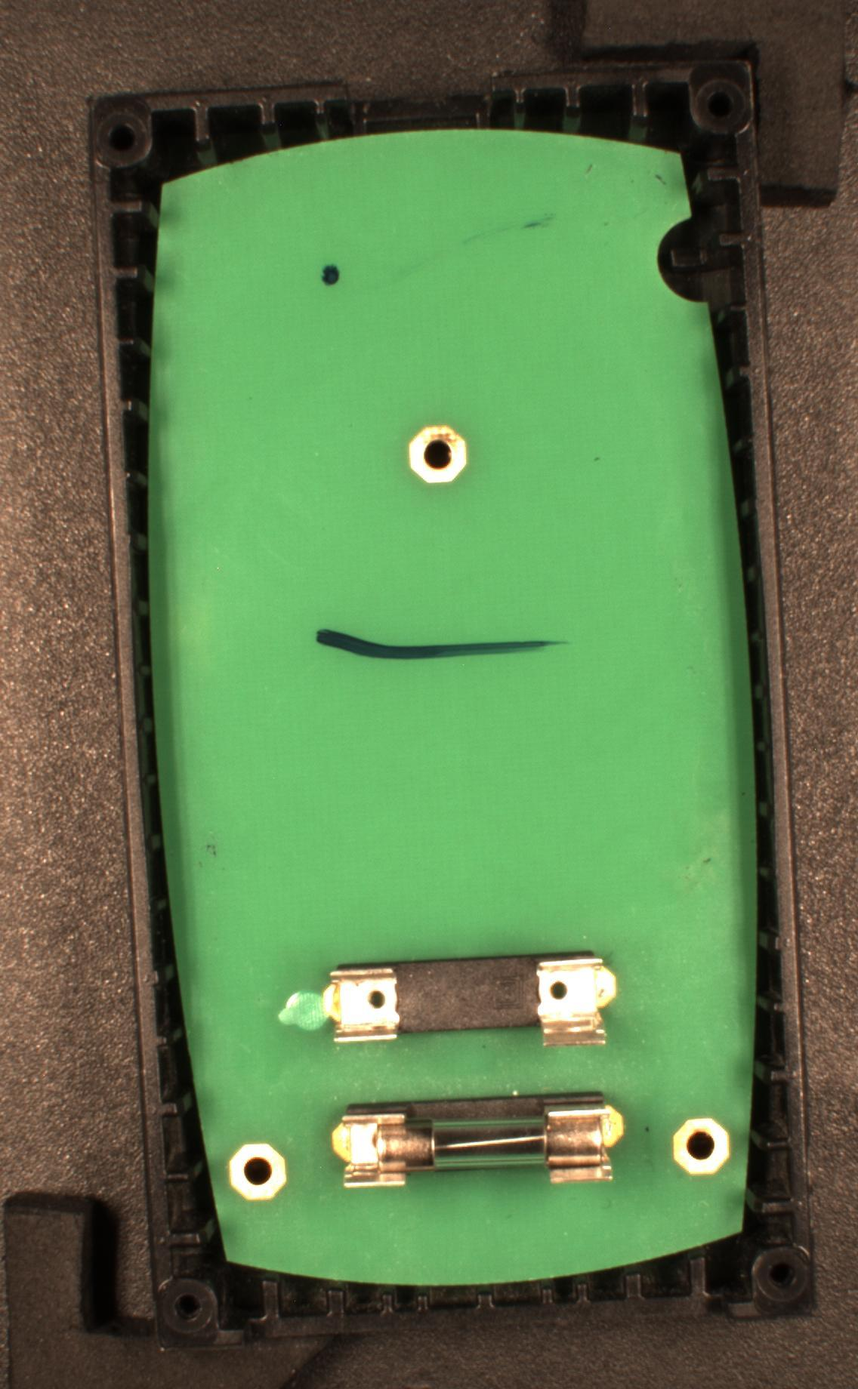Linijsko Ostecene: (316, 625, 570, 661)
Nepostojanje osiguraca: (323, 949, 621, 1052)
Tockasto Ostecenje: (319, 264, 342, 288)
